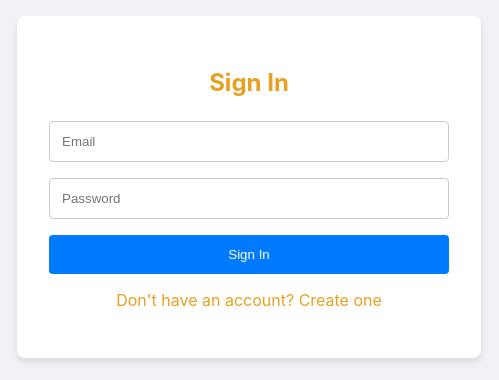
Login Component › switches back to Sign In form when clicking the link on Sign Up form
Click the button with test id "switch-to-signup" at (249,300), box [116,290,382,310]
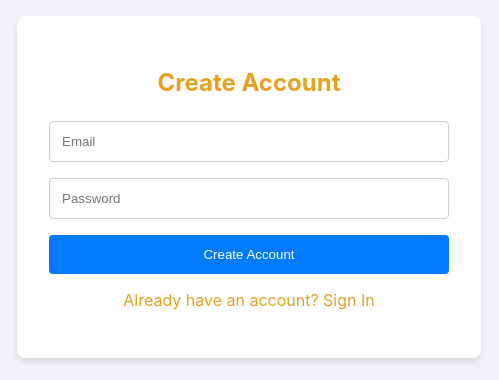
Click the button with test id "switch-to-signin" at (249,300), box [123,290,375,310]
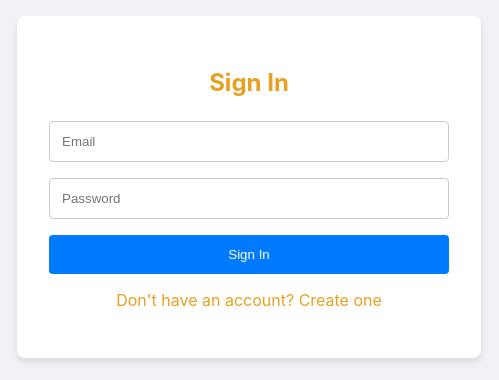
Expected: the form with test id "signin-form" is shown, [49,48,449,326]
